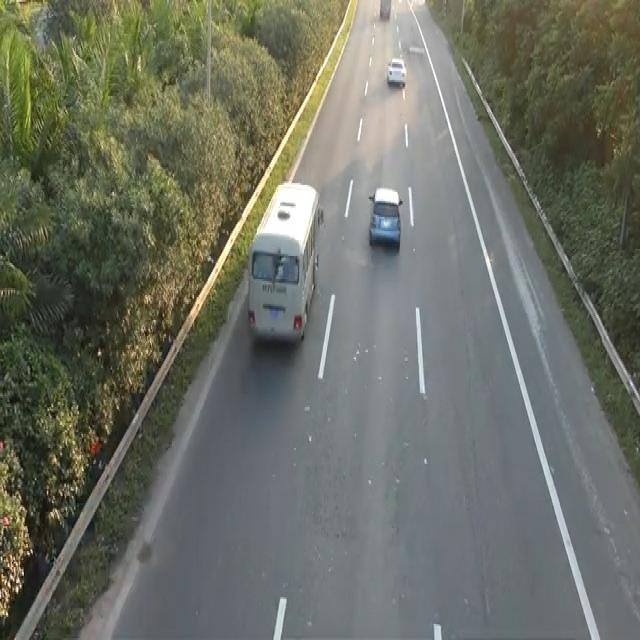bus: (367, 185, 403, 251)
jeep: (245, 178, 325, 346)
